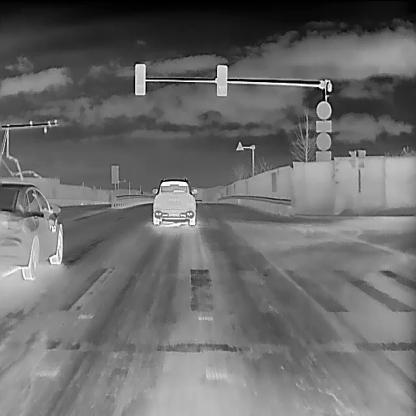car: (0, 180, 62, 279), (152, 176, 198, 225)
